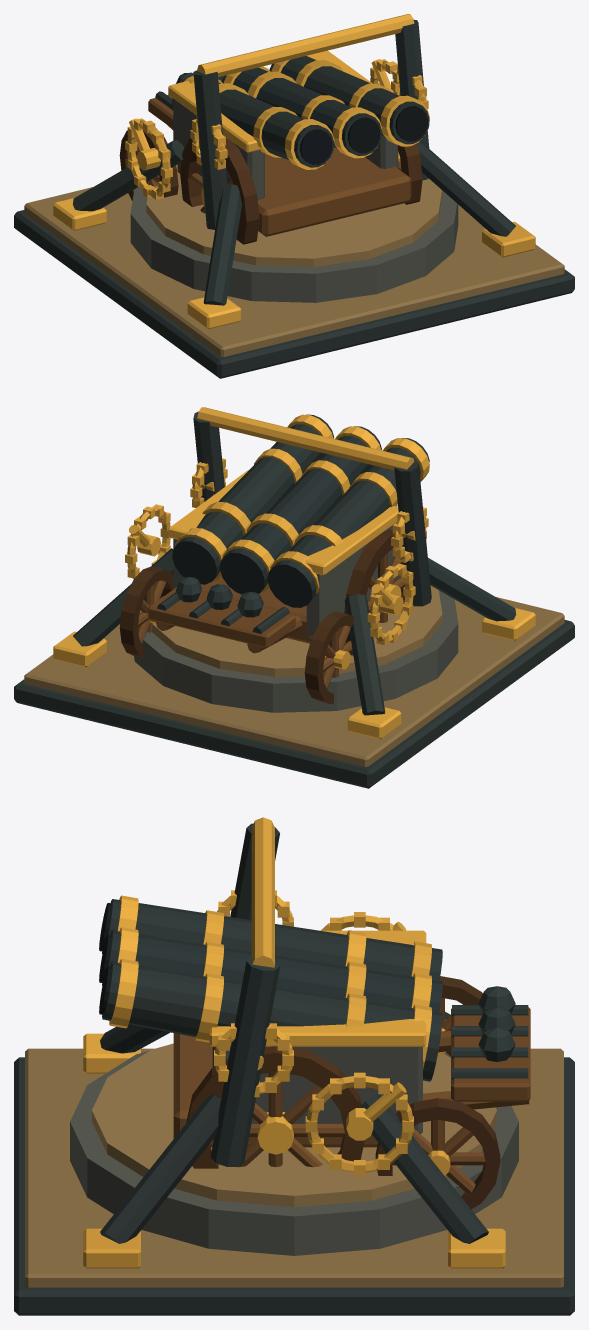
3 views of the same model, one above another, from view 1: azimuth 30°, elevation 25°; view 2: azimuth 150°, elevation 25°; view 3: azimuth 270°, elevation 25° (orthographic). The views are drawn at different scales.
Parts seen in each view (by area): view 1: cannon_level9_structure, cannon_level9_metal; view 2: cannon_level9_structure, cannon_level9_metal; view 3: cannon_level9_structure, cannon_level9_metal.
Boxes of the visible parts, x1,y1,x2,y2 form: cannon_level9_structure: [14, 19, 574, 378]; cannon_level9_metal: [53, 14, 535, 329]; cannon_level9_structure: [14, 411, 574, 788]; cannon_level9_metal: [53, 407, 535, 739]; cannon_level9_structure: [14, 823, 574, 1315]; cannon_level9_metal: [83, 817, 505, 1268].
Bounding box in the file's own units: 3.6 × 2.22 × 3.6.
